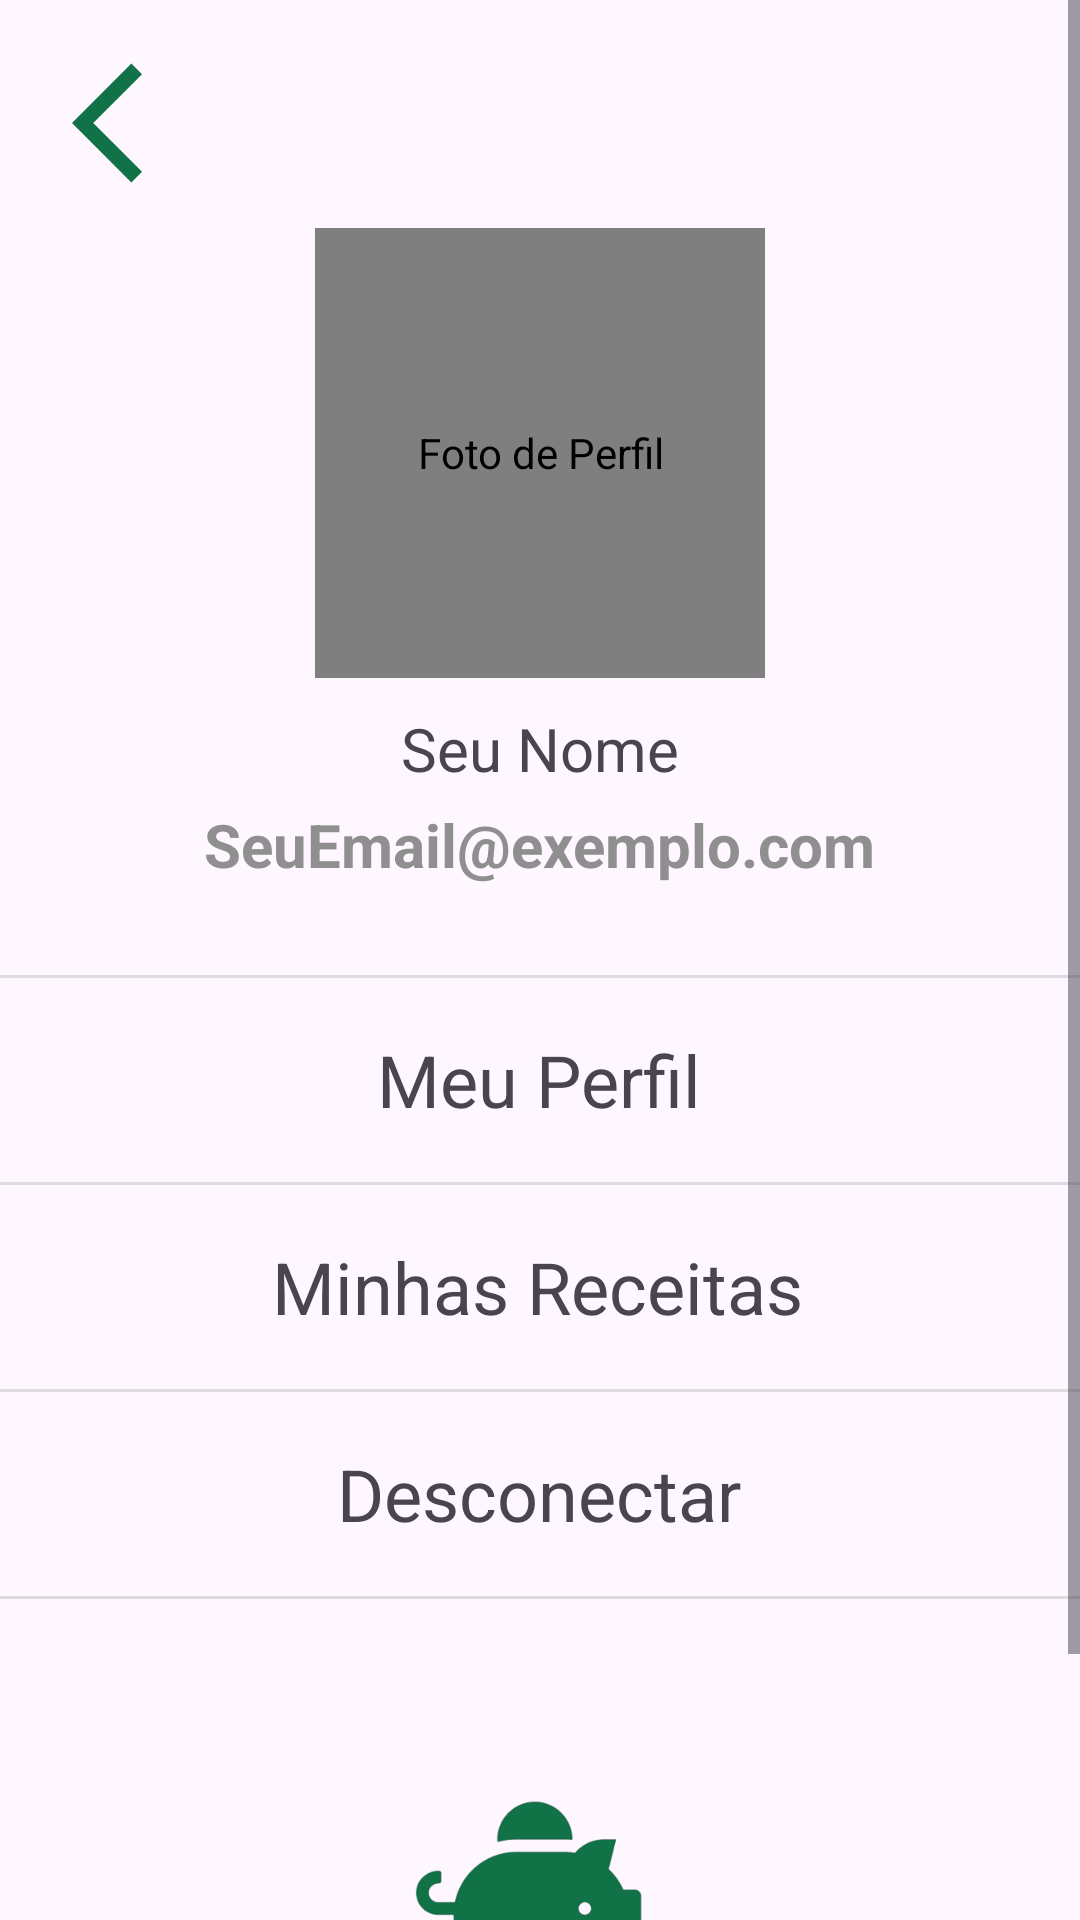

Where icons sit on this 1080w x 1920h app screen, as (x1, y1, x2, y2):
Voltar: (72, 63, 142, 183)
